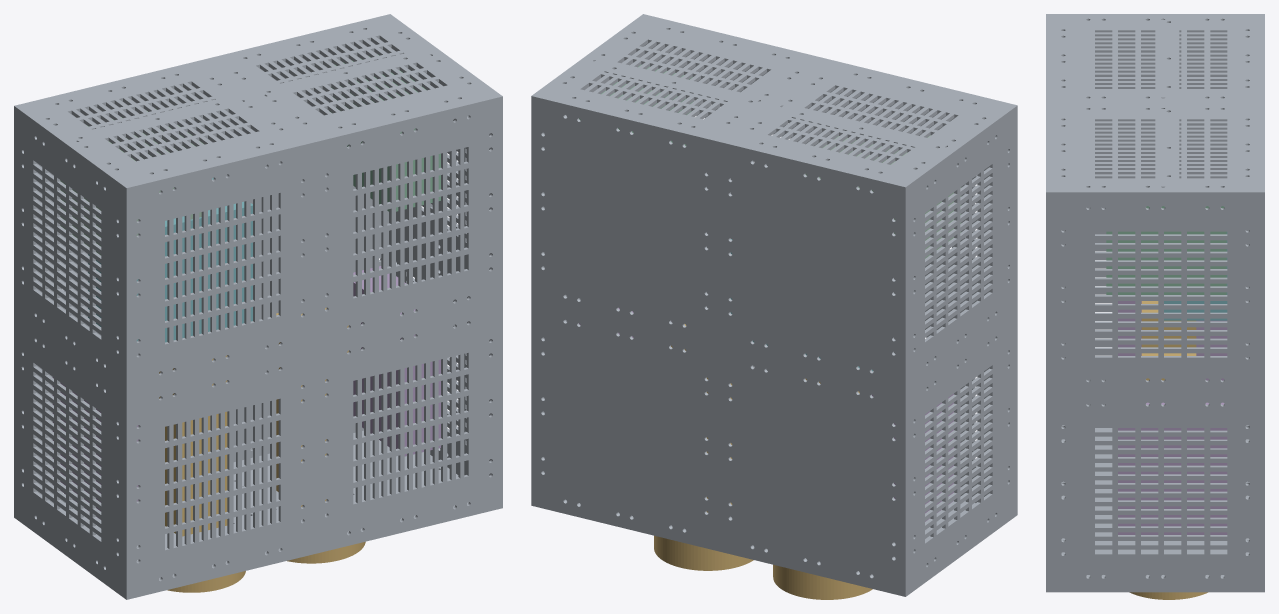
The model's file is layout.glb.
3 views of the same model, side by side, from view 1: azimuth 30°, elevation 25°; view 2: azimuth 150°, elevation 25°; view 3: azimuth 270°, elevation 25° (orthographic). The views are drawn at different scales.
Visible parts, largest first — view 1: roof-tile-3, roof-tile-7, roof-tile-1, roof-tile-5, side-tile-14, side-tile-12, rear-tile-10, rear-tile-11, Jetson-with-connectors-reservation, driver-right-reservation, motor-left, front-right-9 (+10 smaller); view 2: floor-tile-2, floor-tile-0, floor-tile-6, floor-tile-4, side-tile-14, side-tile-12, rear-tile-10, rear-tile-11, external-drum-envelope-290, external-drum-envelope-150, roof-tile-3, roof-tile-1 (+1 smaller); view 3: side-tile-15, side-tile-13, rear-tile-11, rear-tile-10, driver-right-reservation, NDR-240-48, front-right-9, floor-tile-6, roof-tile-7, driver-left-reservation, side-tile-12, floor-tile-4 (+7 smaller).
Part boxes in pixels (x1,y1,x2,y2): roof-tile-3: [124, 141, 314, 393]; roof-tile-7: [313, 95, 502, 347]; roof-tile-1: [124, 348, 314, 599]; roof-tile-5: [314, 302, 502, 553]; side-tile-14: [16, 111, 124, 392]; side-tile-12: [16, 313, 124, 594]; rear-tile-10: [16, 61, 312, 189]; rear-tile-11: [204, 15, 500, 140]; Jetson-with-connectors-reservation: [88, 177, 252, 342]; driver-right-reservation: [353, 266, 440, 456]; motor-left: [159, 355, 227, 536]; front-right-9: [233, 430, 468, 533]; floor-tile-2: [718, 140, 907, 391]; floor-tile-0: [718, 346, 907, 596]; floor-tile-6: [531, 94, 719, 346]; floor-tile-4: [531, 301, 718, 550]; side-tile-14: [907, 110, 1015, 390]; side-tile-12: [907, 312, 1015, 591]; rear-tile-10: [721, 61, 1015, 188]; rear-tile-11: [533, 15, 827, 140]; external-drum-envelope-290: [654, 535, 753, 570]; external-drum-envelope-150: [773, 564, 872, 599]; roof-tile-3: [828, 59, 1017, 311]; roof-tile-1: [894, 290, 1017, 515]; side-tile-15: [1050, 196, 1260, 392]; side-tile-13: [1050, 392, 1260, 588]; rear-tile-11: [1050, 103, 1260, 195]; rear-tile-10: [1050, 14, 1260, 103]; driver-right-reservation: [1118, 402, 1227, 534]; NDR-240-48: [1106, 206, 1226, 294]; front-right-9: [1050, 499, 1260, 592]; floor-tile-6: [1261, 103, 1264, 392]; roof-tile-7: [1046, 103, 1049, 392]; driver-left-reservation: [1118, 301, 1227, 380]; side-tile-12: [1061, 228, 1249, 404]; floor-tile-4: [1261, 392, 1264, 592].
Bounding box in the file's own units: 0.44 × 0.513 × 0.228.
